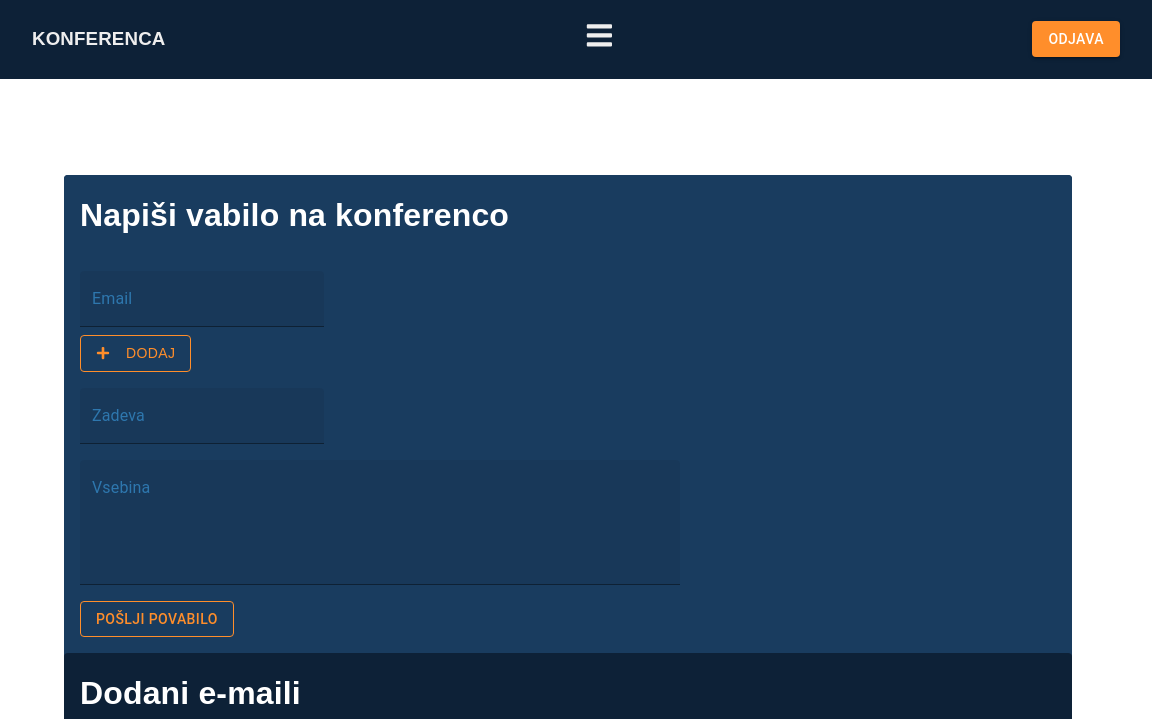
Test: Preveri prikaz dodanega emaila
In the field labelled "Email": coordinates (202, 299) 80,271 -> 324,327, type "nekaj@google.si"
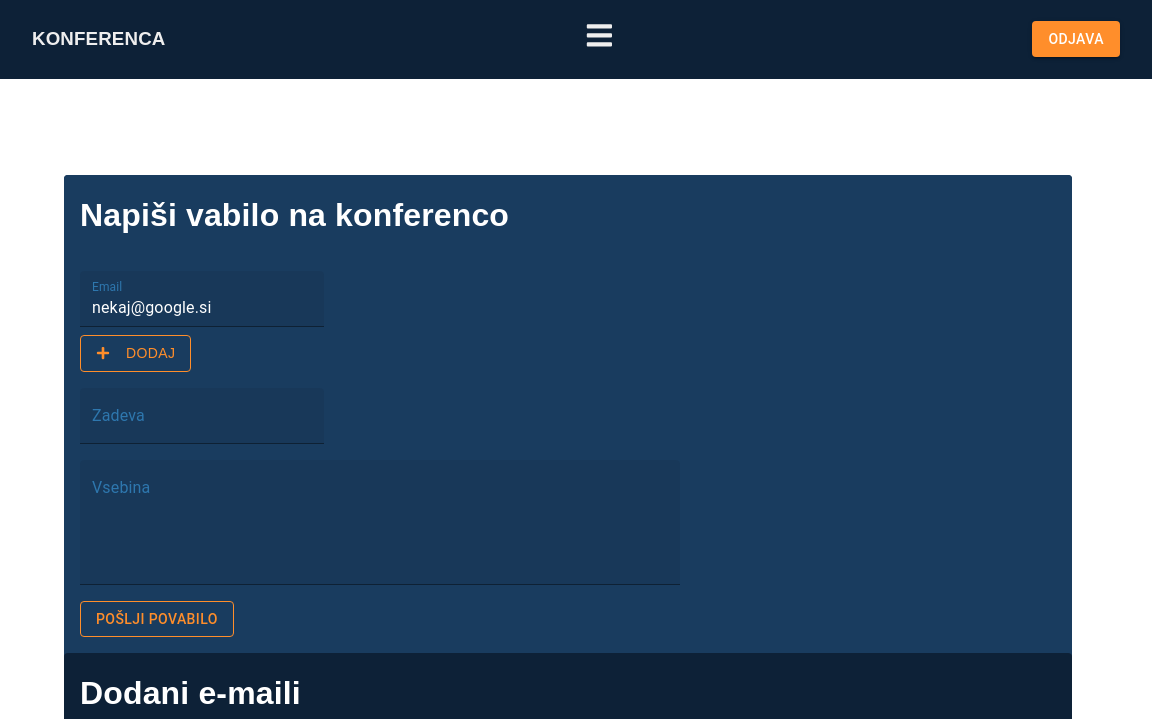
Click the button "Dodaj": coordinates (136, 353) 80,335 -> 192,372
(page scrolled)
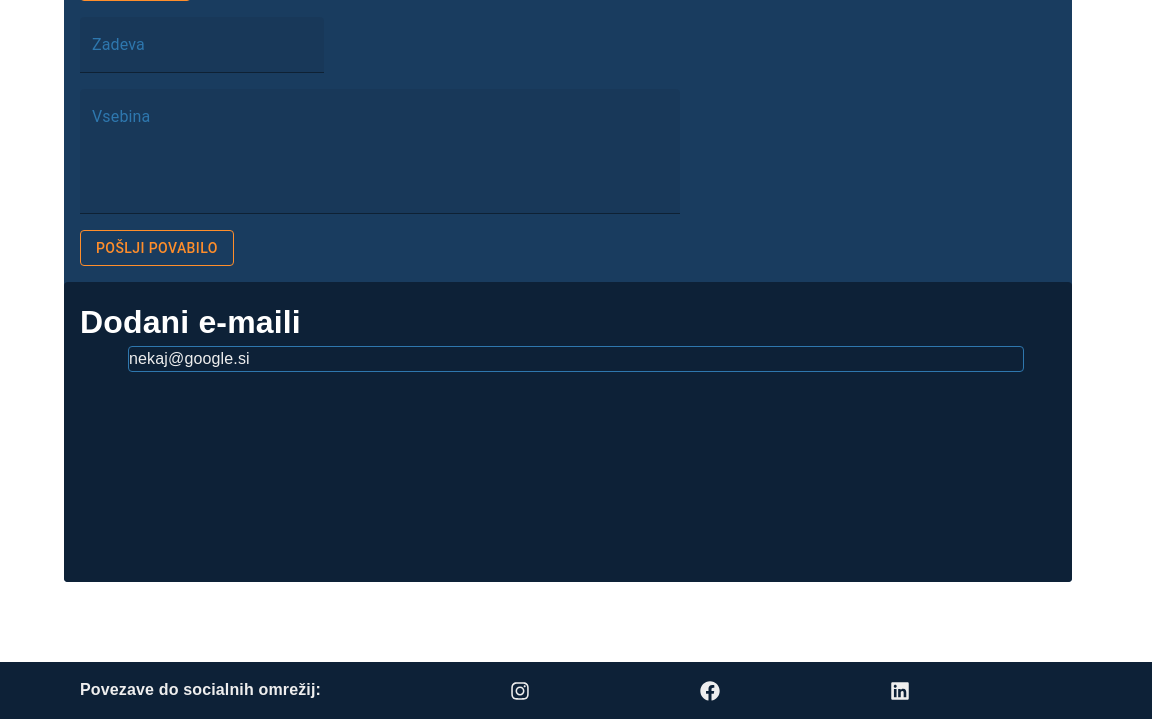
Result: the text "nekaj@google.si" is shown at 128,346 -> 1024,372
